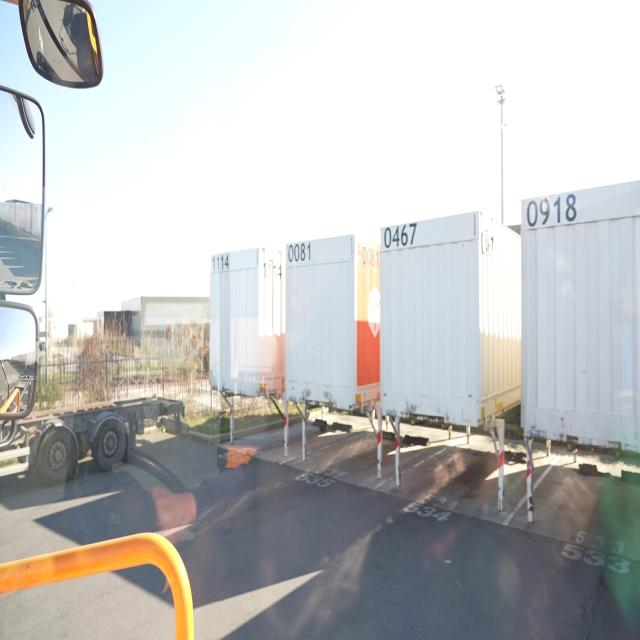Code: (522, 190, 582, 232), (382, 222, 420, 252), (208, 247, 236, 280), (286, 241, 314, 266)
